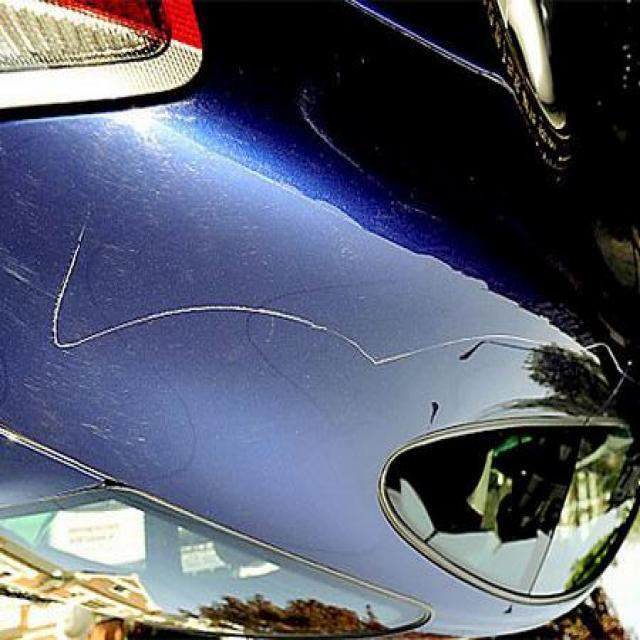scratch: (42, 205, 447, 381)
